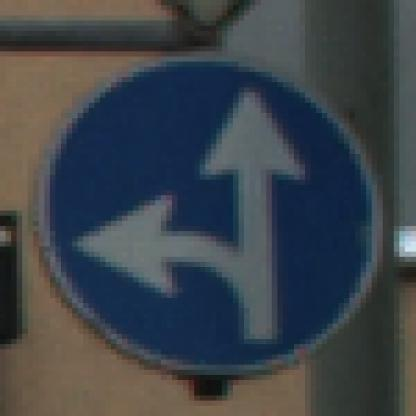Straight or Left: (34, 37, 384, 381)
